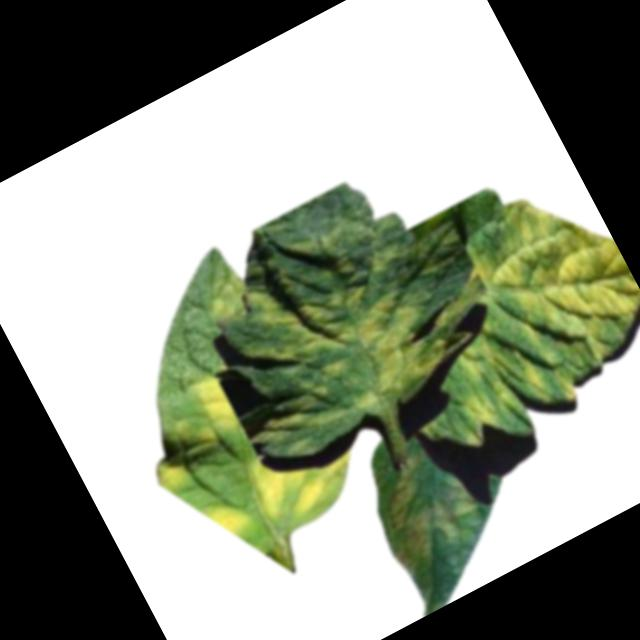Leaf_Mold: (380, 167, 640, 446), (199, 220, 461, 467), (356, 442, 491, 581), (242, 418, 372, 537), (187, 371, 245, 442), (202, 492, 259, 550), (149, 456, 194, 504)
